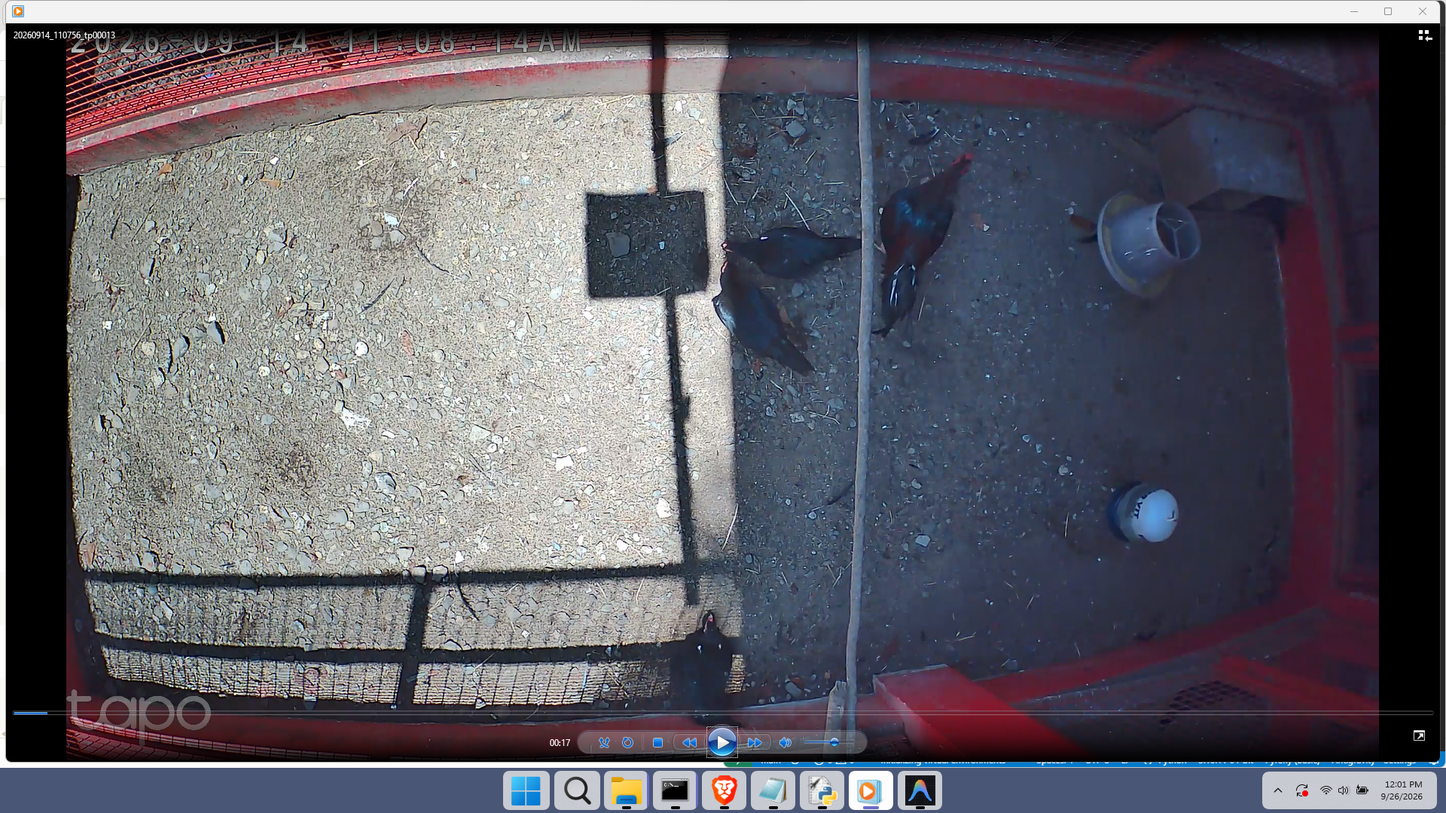Chicken: (713, 261, 819, 376), (716, 221, 863, 278), (675, 613, 739, 724)
Drinker: (1095, 190, 1204, 302), (1104, 477, 1179, 544)
Rooster: (871, 148, 977, 346)
